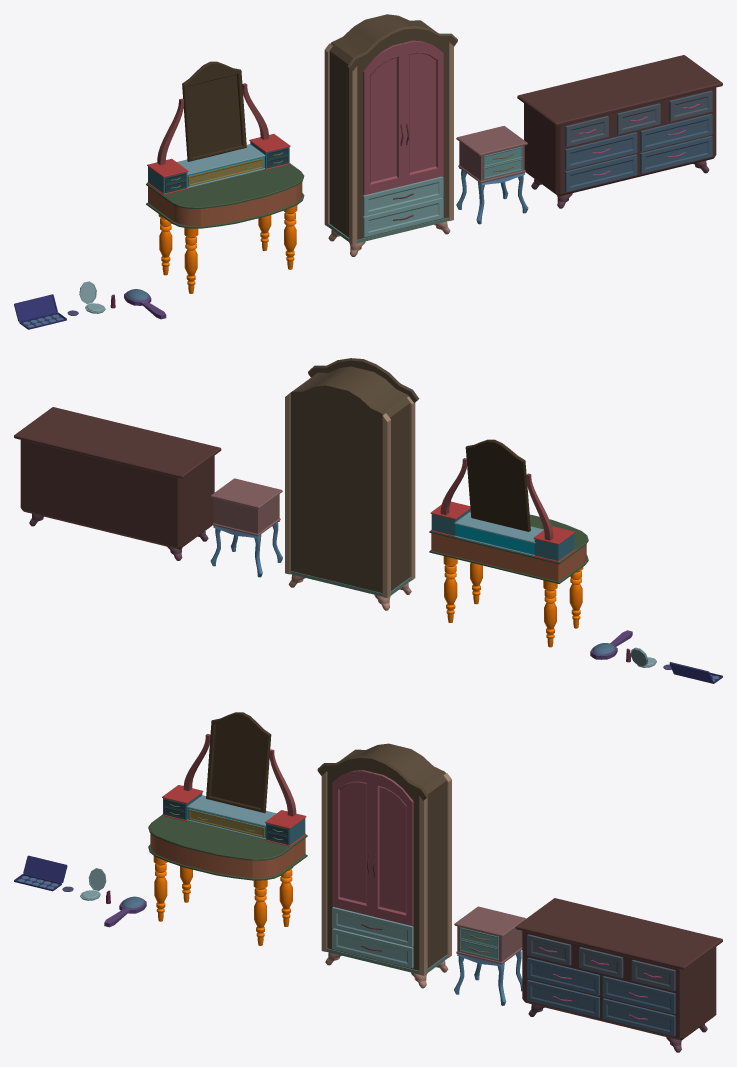
The model's file is BedroomAssetsUVFixed_NoBed.fbx.
3 views of the same model, one above another, from view 1: azimuth 30°, elevation 25°; view 2: azimuth 150°, elevation 25°; view 3: azimuth 330°, elevation 25° (orthographic).
Parts seen in each view (by area): view 1: Bedroom_Closet_DONE, Dresser_DONE, Bedroom_Vanity_DONE, Nightstand_DONE, Eyeshadow_DONE, Brush_DONE; view 2: Bedroom_Closet_DONE, Dresser_DONE, Bedroom_Vanity_DONE, Nightstand_DONE, Eyeshadow_DONE, Brush_DONE; view 3: Bedroom_Closet_DONE, Dresser_DONE, Bedroom_Vanity_DONE, Nightstand_DONE, Eyeshadow_DONE, Brush_DONE.
Boxes of the visible parts, x1,y1,x2,y2 form: Bedroom_Closet_DONE: [324, 14, 457, 256]; Dresser_DONE: [517, 55, 722, 208]; Bedroom_Vanity_DONE: [146, 61, 304, 293]; Nightstand_DONE: [456, 126, 528, 224]; Eyeshadow_DONE: [14, 294, 66, 329]; Brush_DONE: [124, 289, 166, 319]; Bedroom_Closet_DONE: [285, 358, 419, 610]; Dresser_DONE: [14, 407, 221, 560]; Bedroom_Vanity_DONE: [429, 439, 588, 647]; Nightstand_DONE: [210, 478, 282, 577]; Eyeshadow_DONE: [669, 662, 722, 683]; Brush_DONE: [590, 630, 632, 659]; Bedroom_Closet_DONE: [317, 743, 451, 988]; Dresser_DONE: [515, 898, 722, 1052]; Bedroom_Vanity_DONE: [148, 712, 307, 945]; Nightstand_DONE: [454, 906, 525, 1005]; Eyeshadow_DONE: [14, 855, 67, 891]; Brush_DONE: [104, 896, 146, 927].
Bounding box in the file's own units: 41.99 × 13.14 × 4.85.
